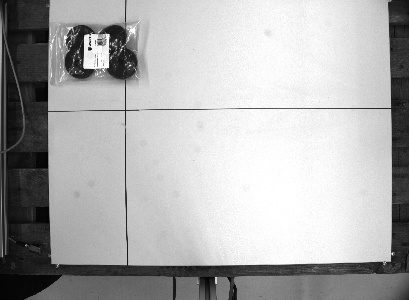t1: (44, 17, 145, 88)
